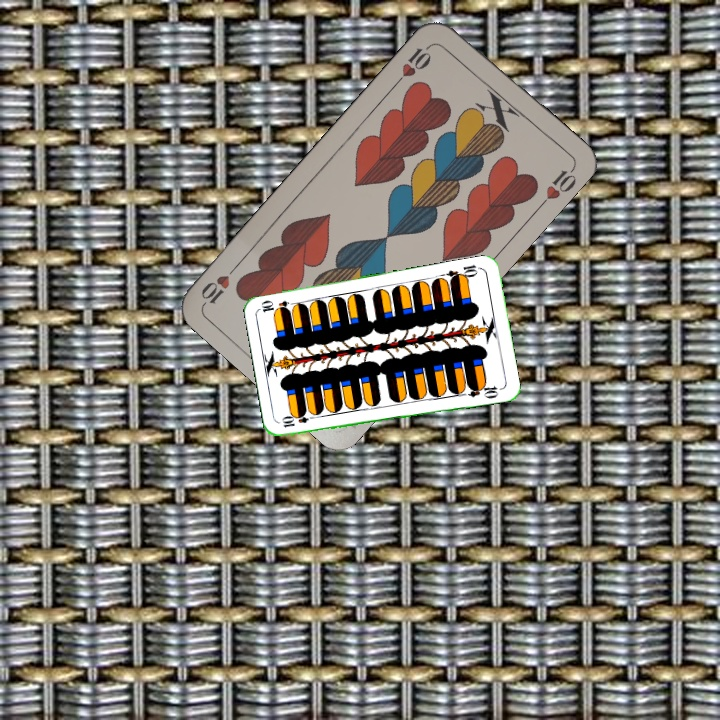E10: (443, 261, 484, 284), (278, 410, 318, 430)
H10: (391, 39, 436, 88)
